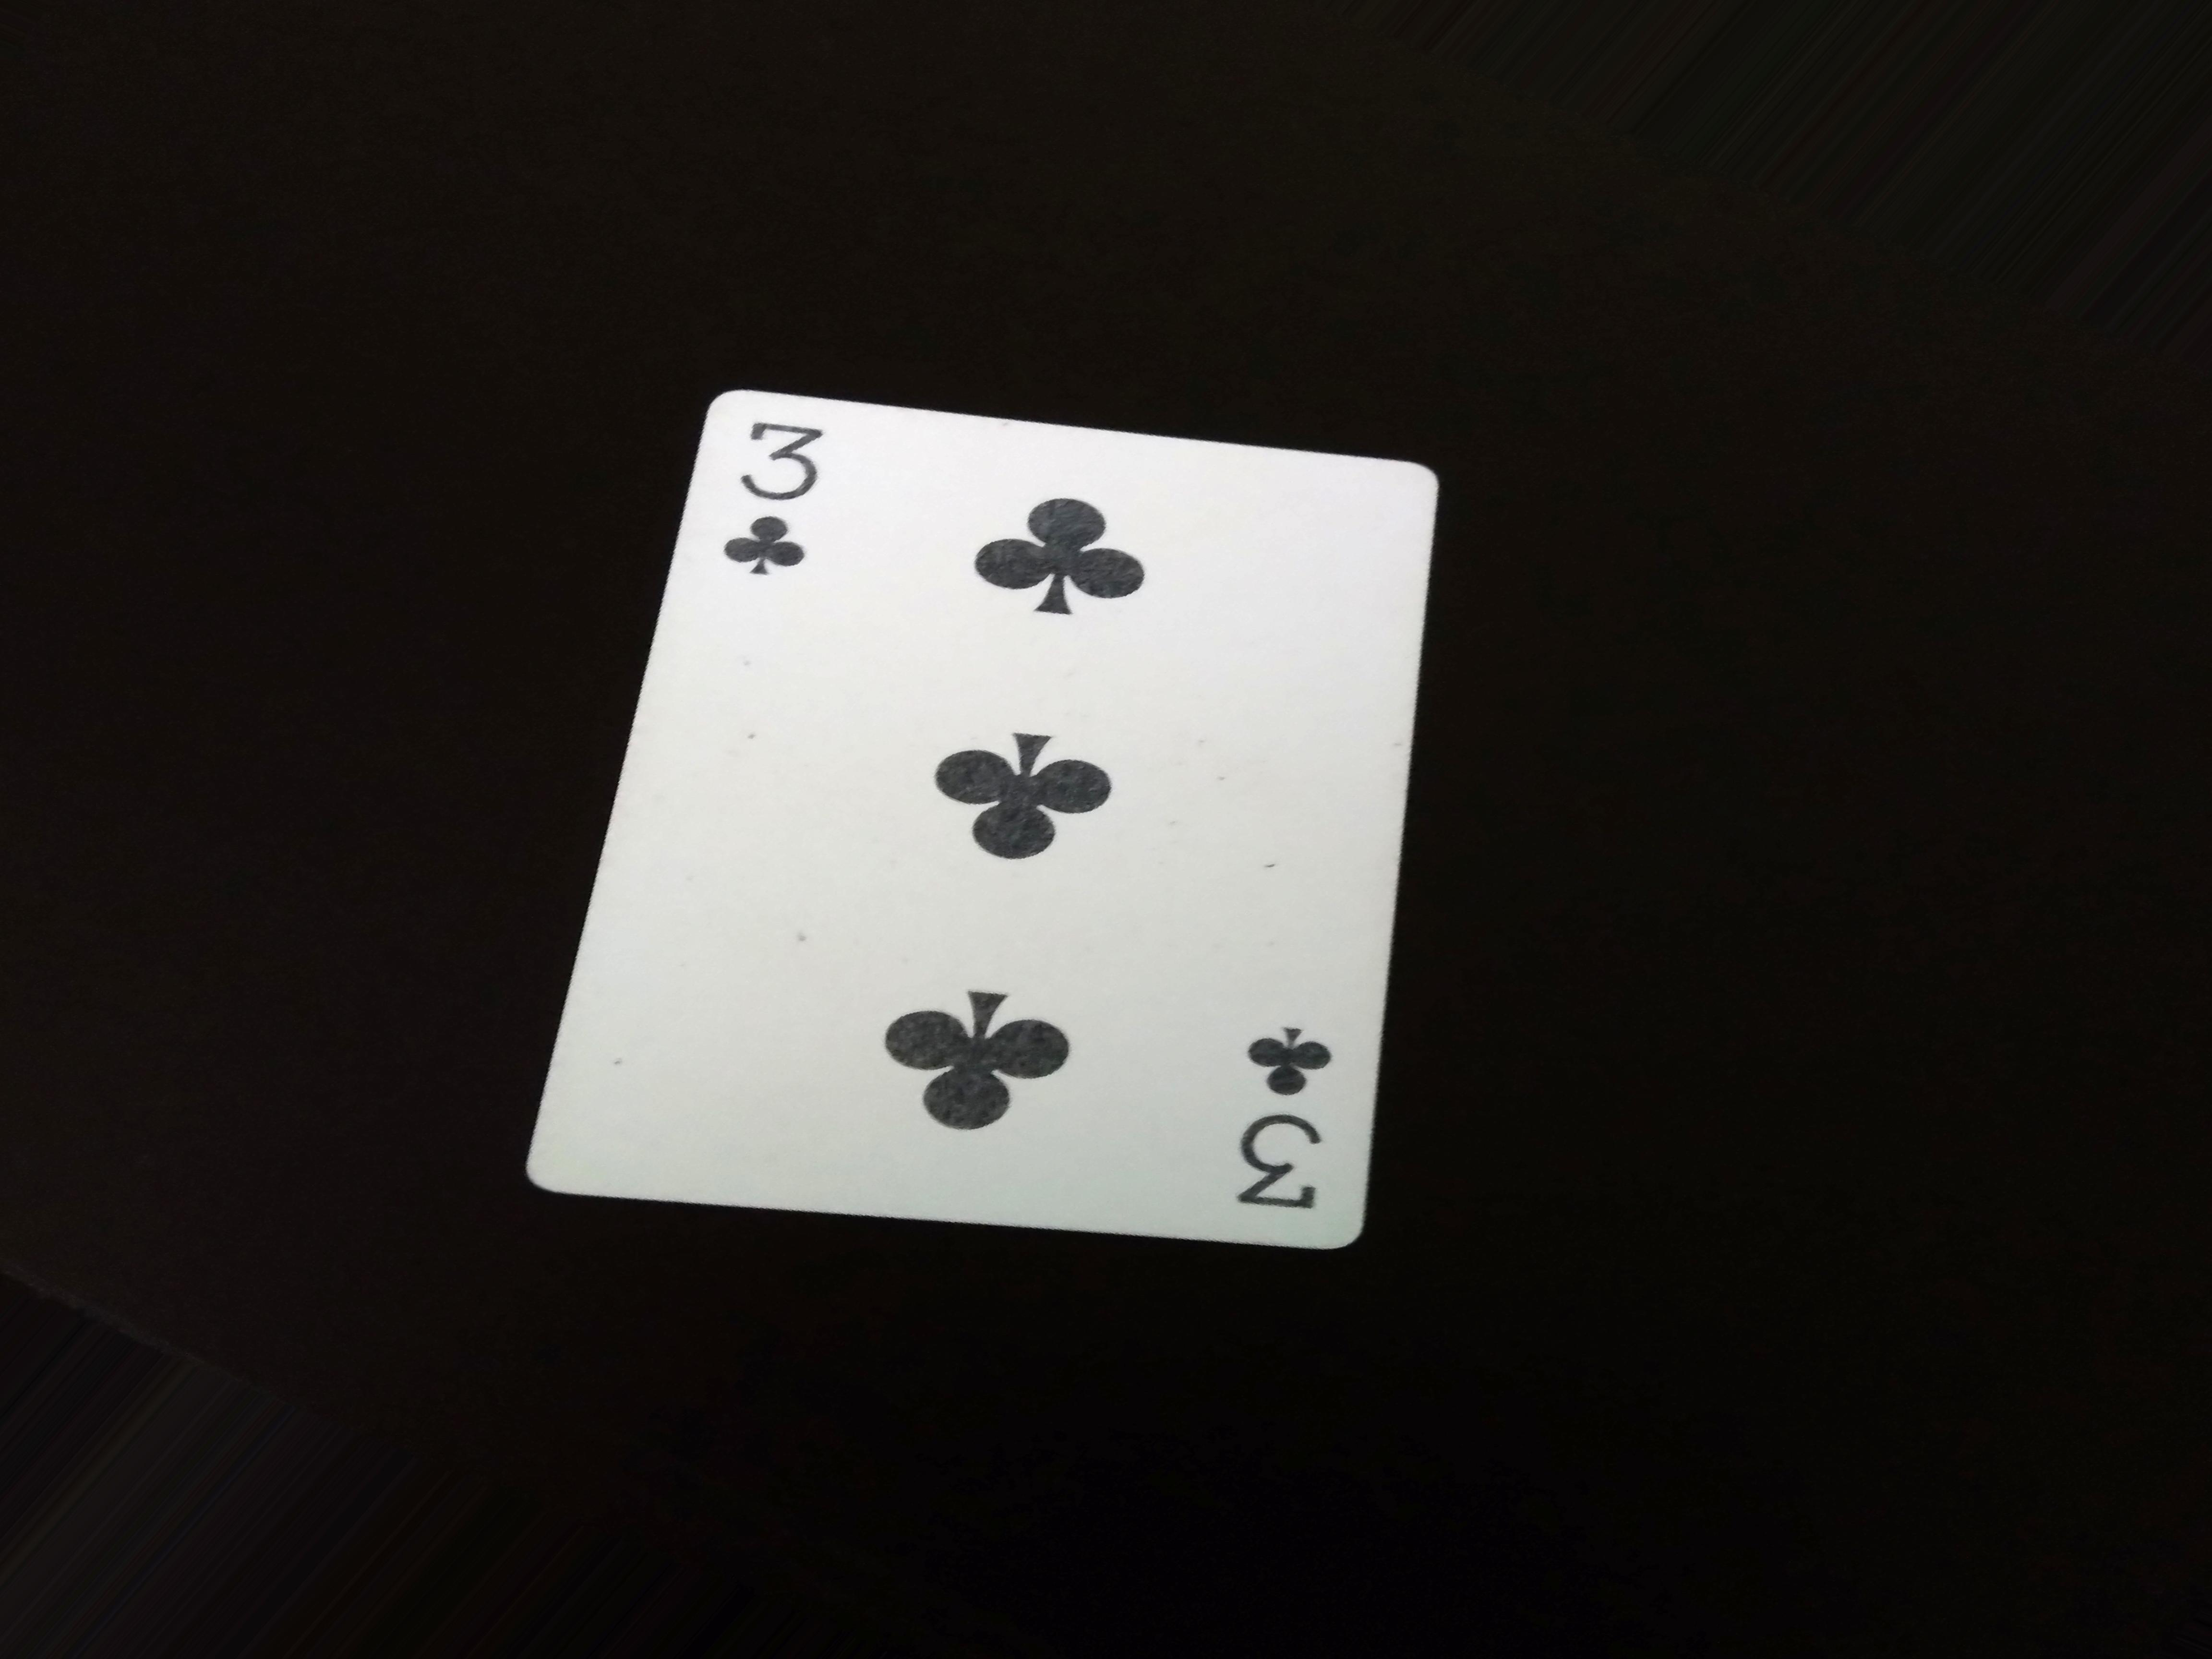3C: (714, 413, 834, 594)
